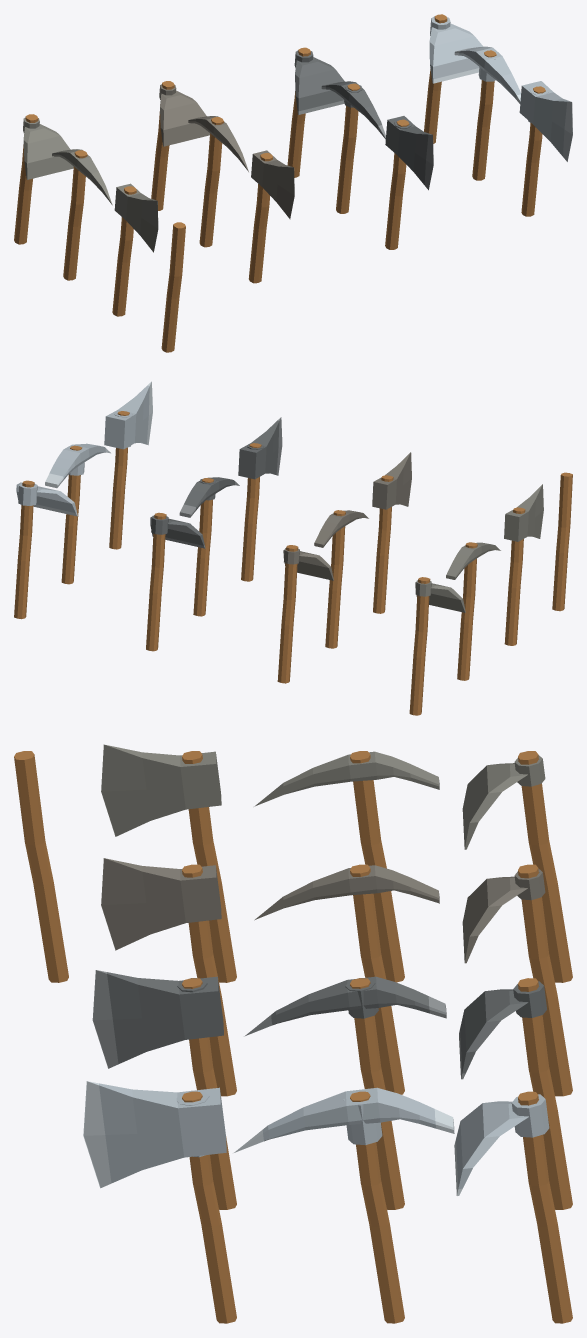
The model's file is kazma-balta-çapa-sopa.fbx.
The picture shows the model from 3 angles, top to bottom: view 1: azimuth 30°, elevation 25°; view 2: azimuth 150°, elevation 25°; view 3: azimuth 270°, elevation 25°; orthographic projection. The views are drawn at different scales.
Visible parts, largest first — view 1: Çelik Balta, Demir Balta, Taş Balta, Balta.001, Çelik Kazma, Demir Kazma, Kazma.001, Taş Kazma, Çelik Çapa Kavisli Ağzı, Demir Çapa Kavisli Ağzı, Çapa Kavisli Metal Ağzı, Taş Çapa Kavisli Ağzı (+5 smaller); view 2: Çelik Balta, Demir Balta, Taş Balta, Balta.001, Çelik Kazma, Demir Kazma, Taş Kazma, Kazma.001, Sap.001, Taş Çapa Ahşap Sapı, Çapa Ahşap Sapı, Demir Çapa Ahşap Sapı (+5 smaller); view 3: Çelik Balta, Demir Balta, Balta.001, Taş Balta, Çelik Kazma, Demir Kazma, Kazma.001, Taş Kazma, Sap.001, Çelik Çapa Ahşap Sapı, Çapa Ahşap Sapı, Taş Çapa Ahşap Sapı (+8 smaller).
Part boxes in pixels (box(x1,y1,x2,y2)): Çelik Balta: box(519, 81, 572, 216); Demir Balta: box(385, 116, 433, 249); Taş Balta: box(248, 150, 294, 283); Balta.001: box(112, 183, 158, 316); Çelik Kazma: box(454, 46, 520, 180); Demir Kazma: box(321, 81, 385, 213); Kazma.001: box(52, 149, 112, 280); Taş Kazma: box(188, 116, 248, 247); Çelik Çapa Kavisli Ağzı: box(429, 23, 482, 83); Demir Çapa Kavisli Ağzı: box(295, 57, 344, 114); Çapa Kavisli Metal Ağzı: box(23, 124, 73, 179); Taş Çapa Kavisli Ağzı: box(160, 90, 209, 146); Çelik Balta: box(104, 381, 152, 549); Demir Balta: box(238, 417, 282, 581); Taş Balta: box(372, 452, 411, 613); Balta.001: box(504, 484, 543, 645); Çelik Kazma: box(45, 443, 110, 584); Demir Kazma: box(179, 477, 239, 616); Taş Kazma: box(314, 510, 368, 648); Kazma.001: box(446, 542, 500, 680); Sap.001: box(552, 472, 572, 611); Taş Çapa Ahşap Sapı: box(277, 545, 298, 683); Çapa Ahşap Sapı: box(409, 577, 430, 715); Demir Çapa Ahşap Sapı: box(146, 512, 166, 651); Çelik Balta: box(83, 1081, 236, 1323); Demir Balta: box(92, 970, 236, 1209); Balta.001: box(101, 744, 236, 982); Taş Balta: box(101, 858, 236, 1096); Çelik Kazma: box(234, 1087, 454, 1323); Demir Kazma: box(244, 976, 446, 1209); Kazma.001: box(254, 751, 439, 982); Taş Kazma: box(254, 864, 439, 1094); Sap.001: box(14, 751, 68, 982); Çelik Çapa Ahşap Sapı: box(518, 1091, 572, 1323); Çapa Ahşap Sapı: box(518, 751, 572, 982); Taş Çapa Ahşap Sapı: box(518, 864, 572, 1096).
Bounding box in the file's own units: 10.87 × 3.18 × 6.66.
